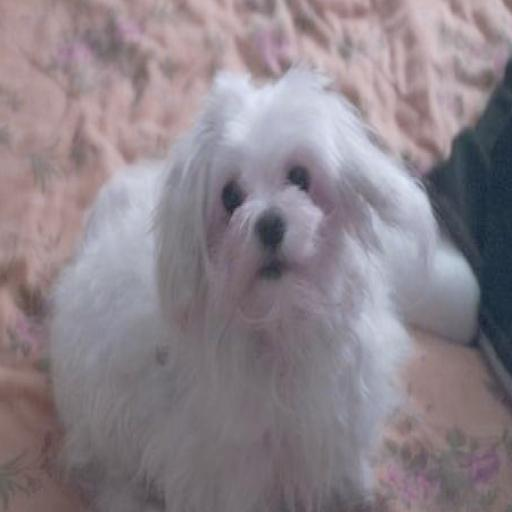dog_face: (178, 84, 368, 337)
